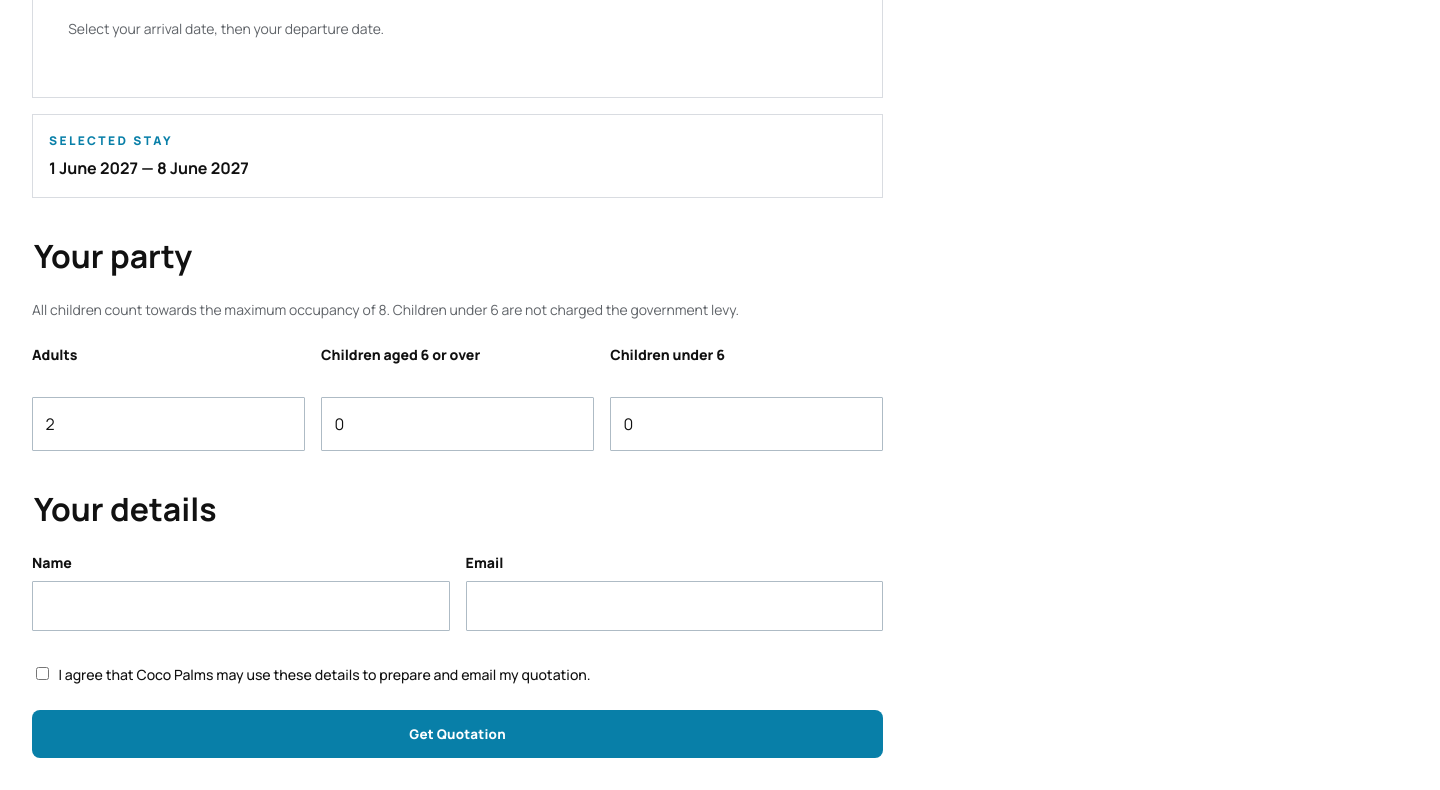
QuoteForm › submits the selected stay and displays an itemised quote with Book Now
The width and height of the screenshot is (1440, 790).
(page scrolled)
In the field labelled "Name": [241, 606] box [32,581,450,631], type "Paul Fairbrother"
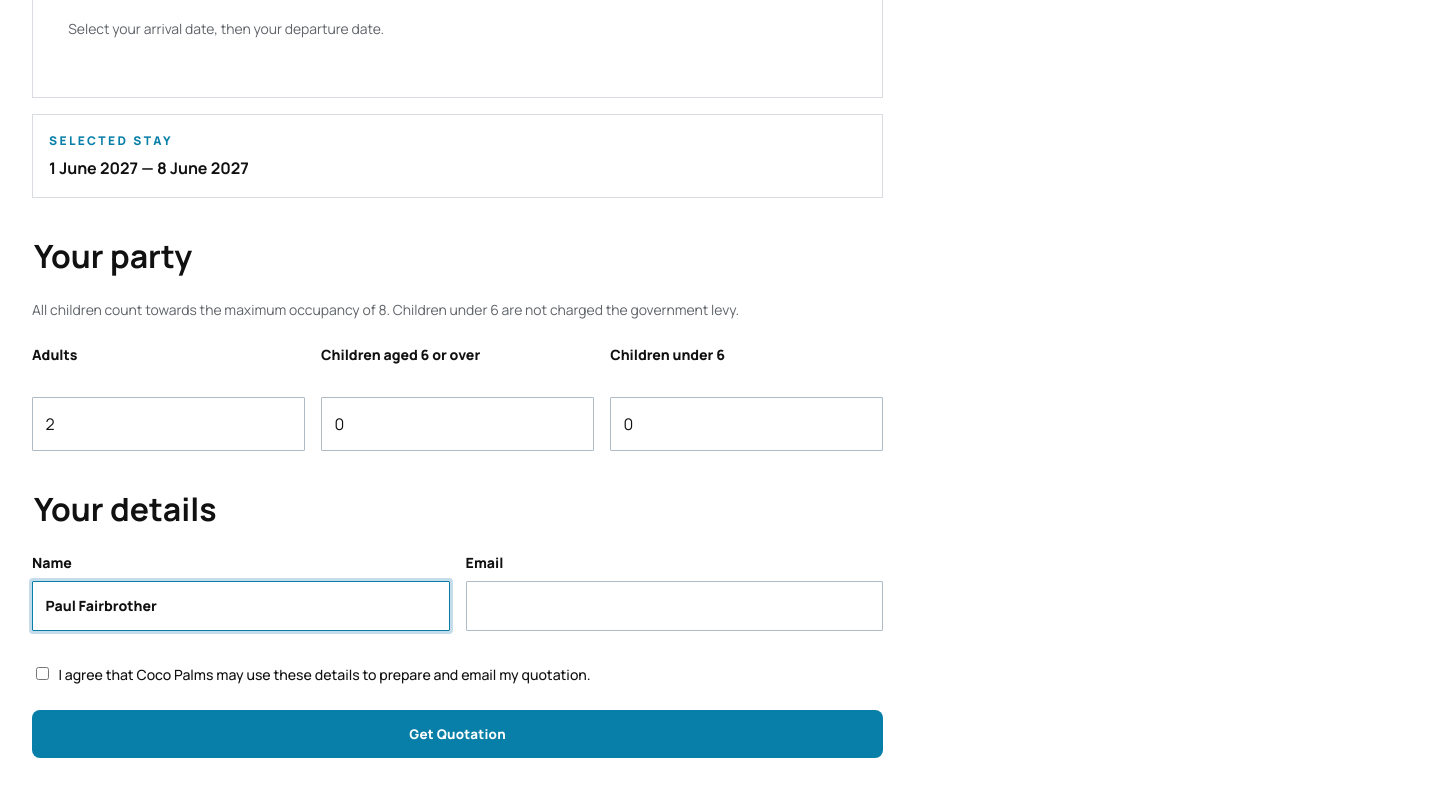
In the field labelled "Email": [674, 606] box [466,581,883,631], type "paul@example.com"
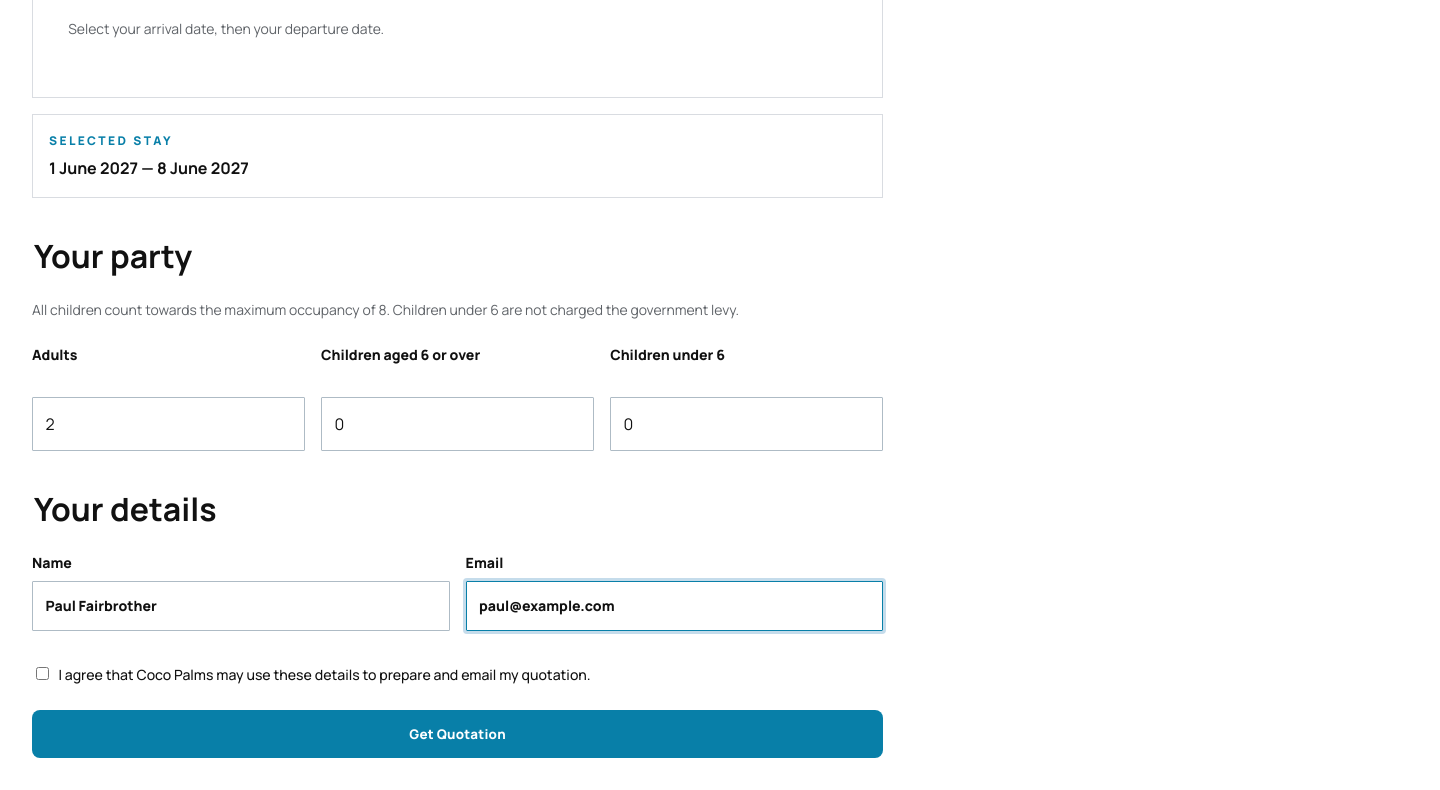
Replace the text in the number field labelled "Children aged 6 or over" with "1": [458, 424] box [321,397,594,451]
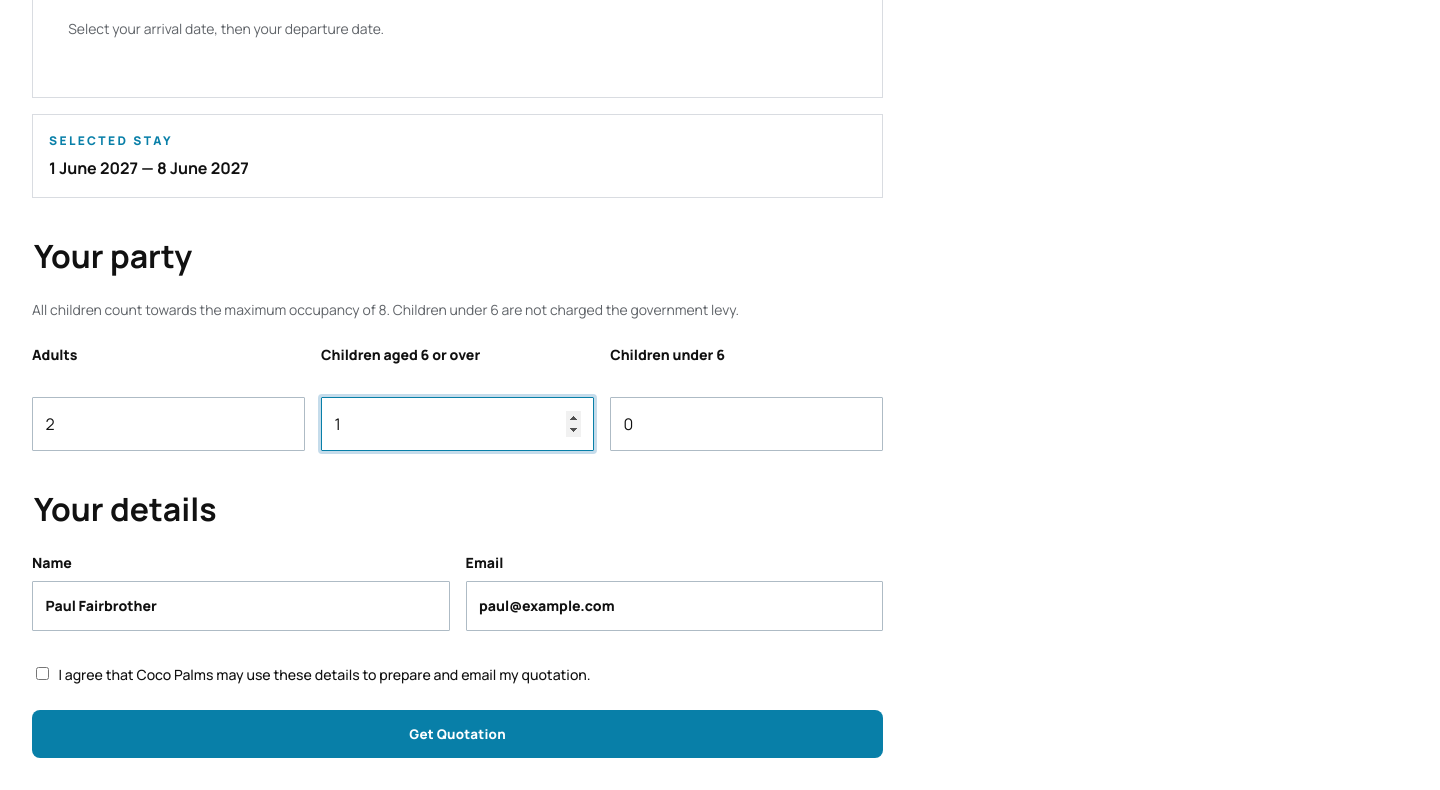
Click the checkbox: [42, 674] box [36,667,49,680]
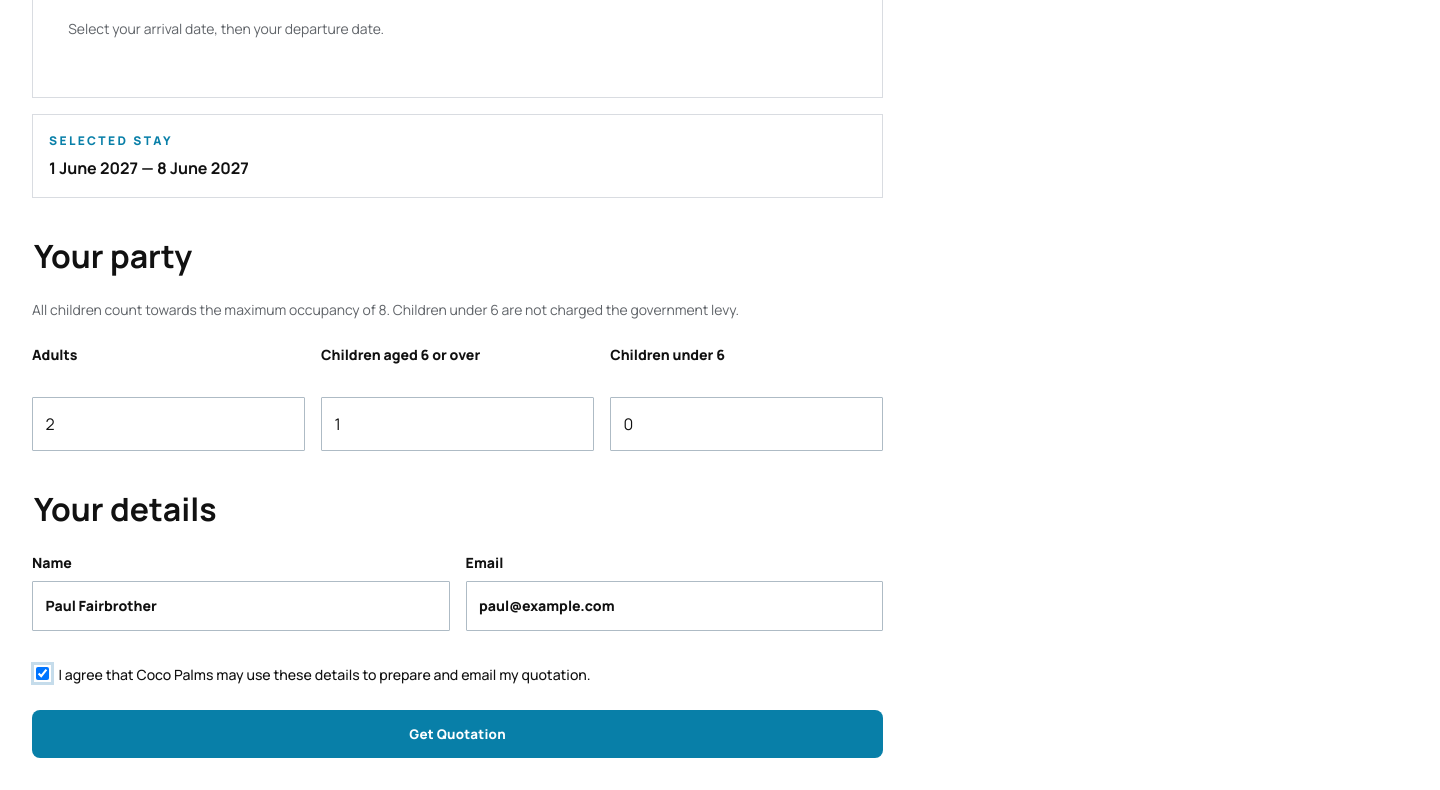
Click the button "Get Quotation": [458, 734] box [32,710,883,758]
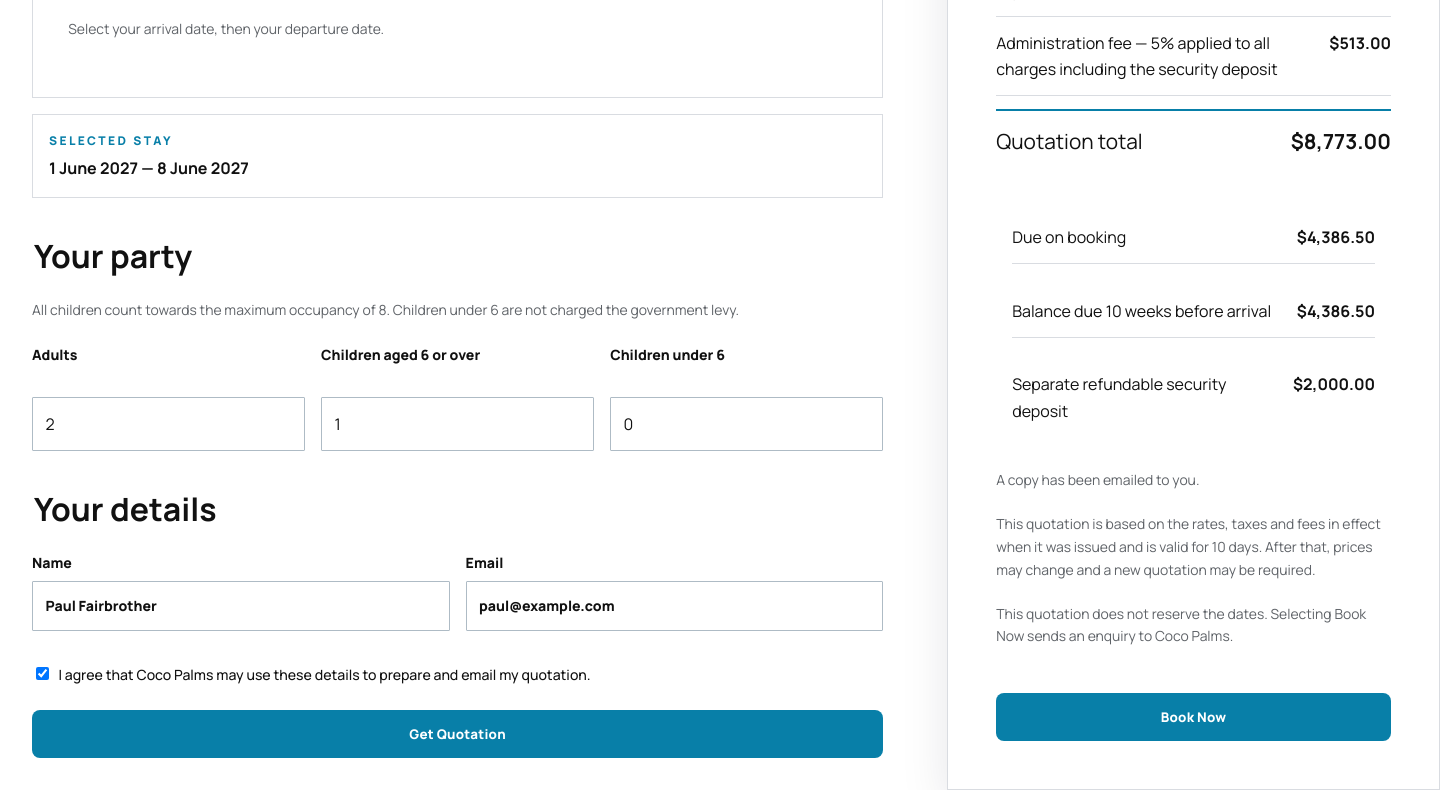
Now the button "Book Now" is shown
Click the button "Book Now": [1194, 717] box [996,693,1391,741]
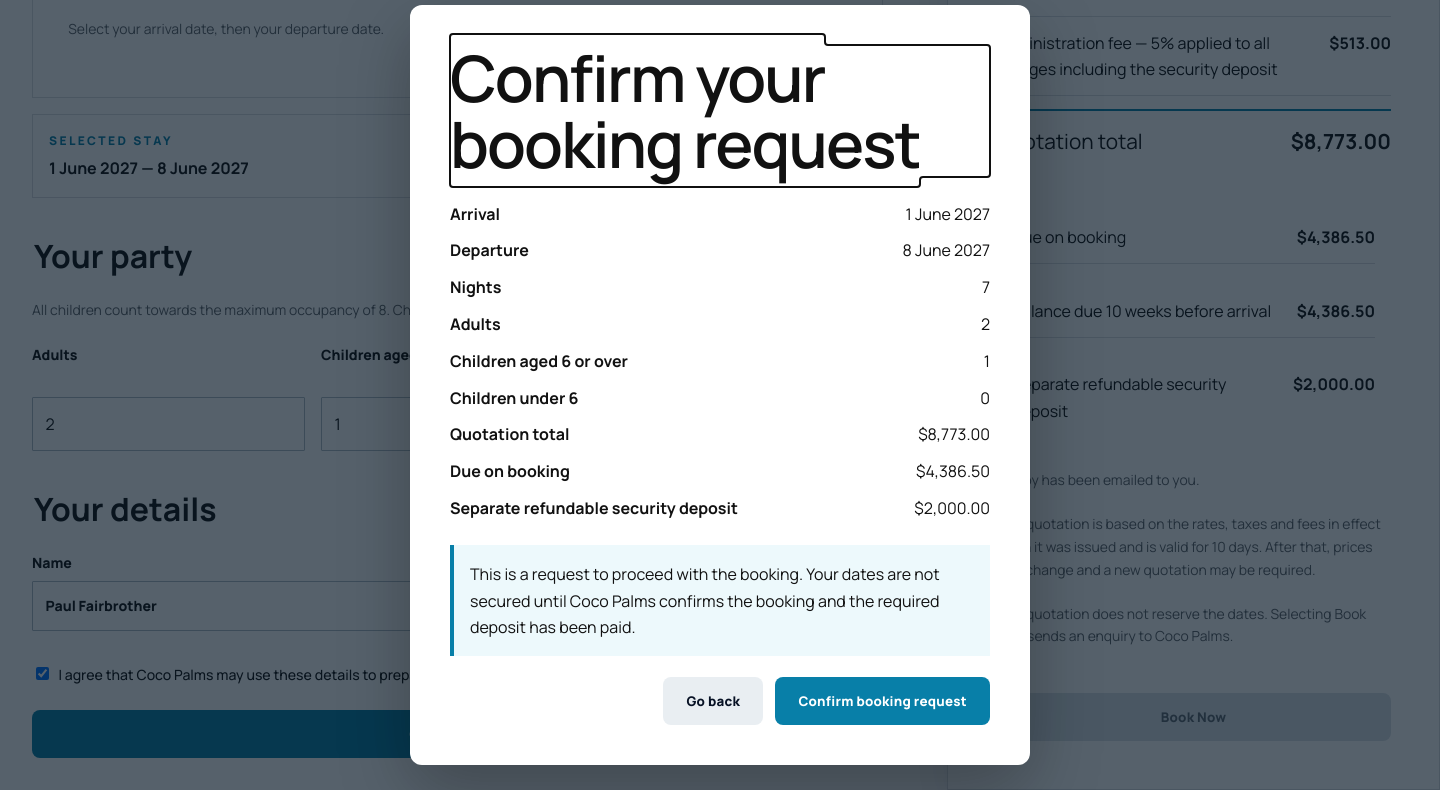
Now the text "2" is shown, box [981,313,990,335]
Now the text "1" is shown, box [984,350,990,372]
Now the text "0" is shown, box [980,386,990,408]
